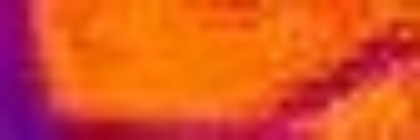Shadow: (40, 113, 320, 140), (1, 1, 39, 139)
